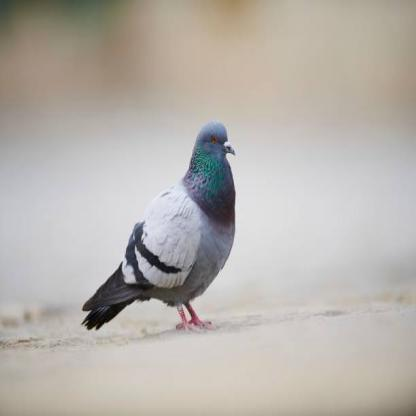Flying Rat: (85, 119, 246, 340)
